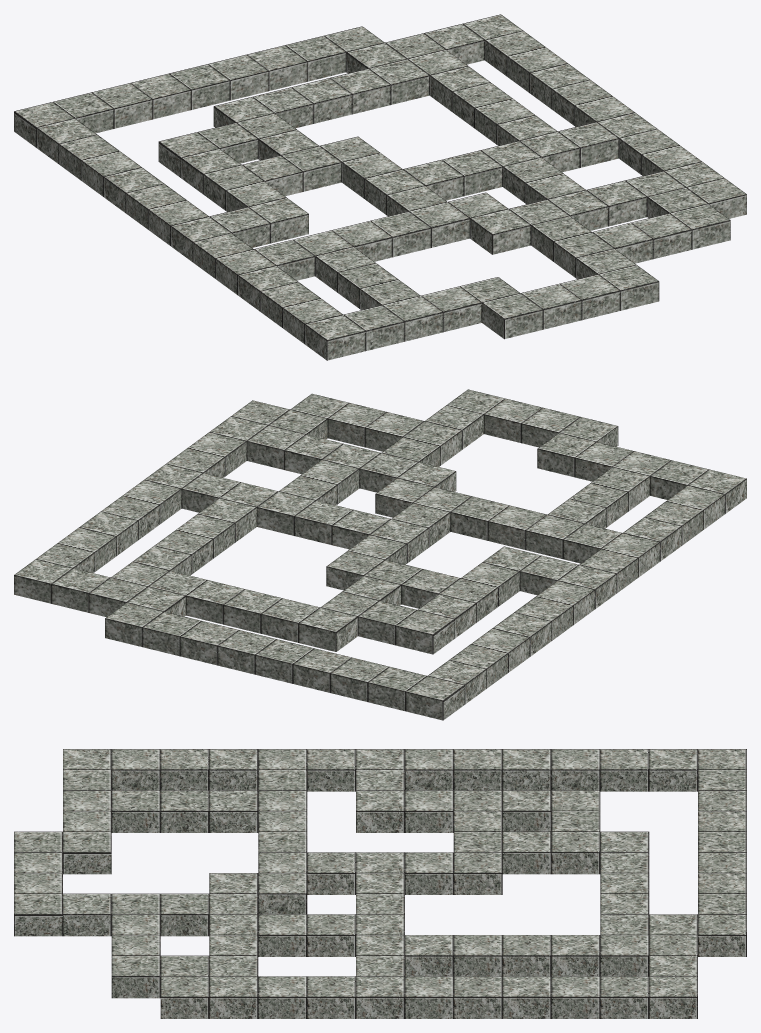
File: Board.fbx
The picture shows the model from 3 angles, top to bottom: view 1: azimuth 30°, elevation 25°; view 2: azimuth 150°, elevation 25°; view 3: azimuth 270°, elevation 25°; orthographic projection. The views are drawn at different scales.
Visible parts, largest first — view 1: Tile (1); view 2: Tile (1); view 3: Tile (1).
Boxes of the visible parts, x1,y1,x2,y2 form: Tile (1): (14, 14, 746, 360); Tile (1): (14, 389, 746, 720); Tile (1): (14, 749, 746, 1018).
Bounding box in the file's own units: 12 × 0.5 × 15.
